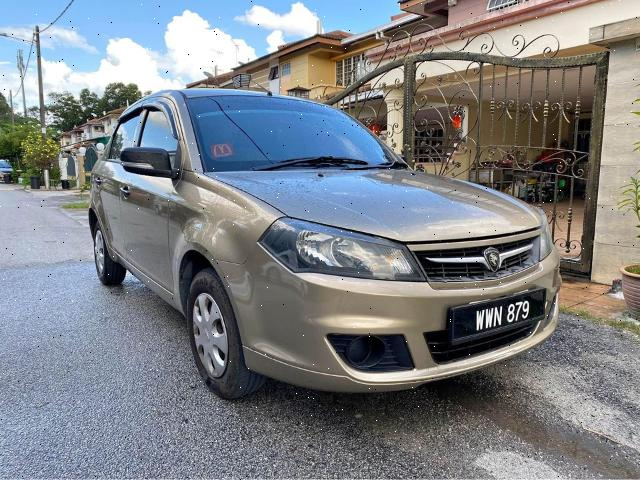License_Plate: (463, 294, 542, 335)
car: (85, 92, 569, 404)
